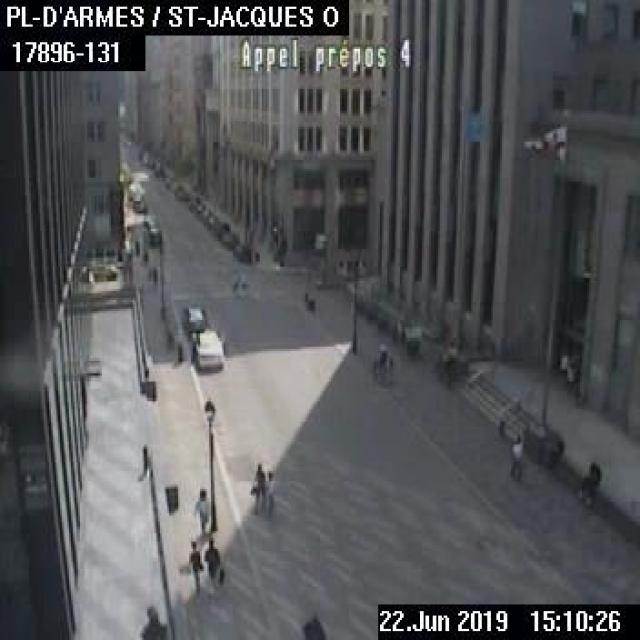pedestrian: (203, 536, 222, 588), (185, 538, 203, 590), (193, 486, 209, 536), (249, 461, 264, 512), (580, 460, 600, 498), (508, 436, 522, 477), (264, 469, 274, 513), (564, 360, 573, 389), (378, 342, 386, 366), (240, 275, 247, 294), (229, 277, 237, 293)
vehicle: (194, 326, 224, 371), (184, 302, 204, 330), (233, 243, 258, 262), (220, 229, 237, 247), (147, 226, 160, 243), (133, 200, 145, 213)
